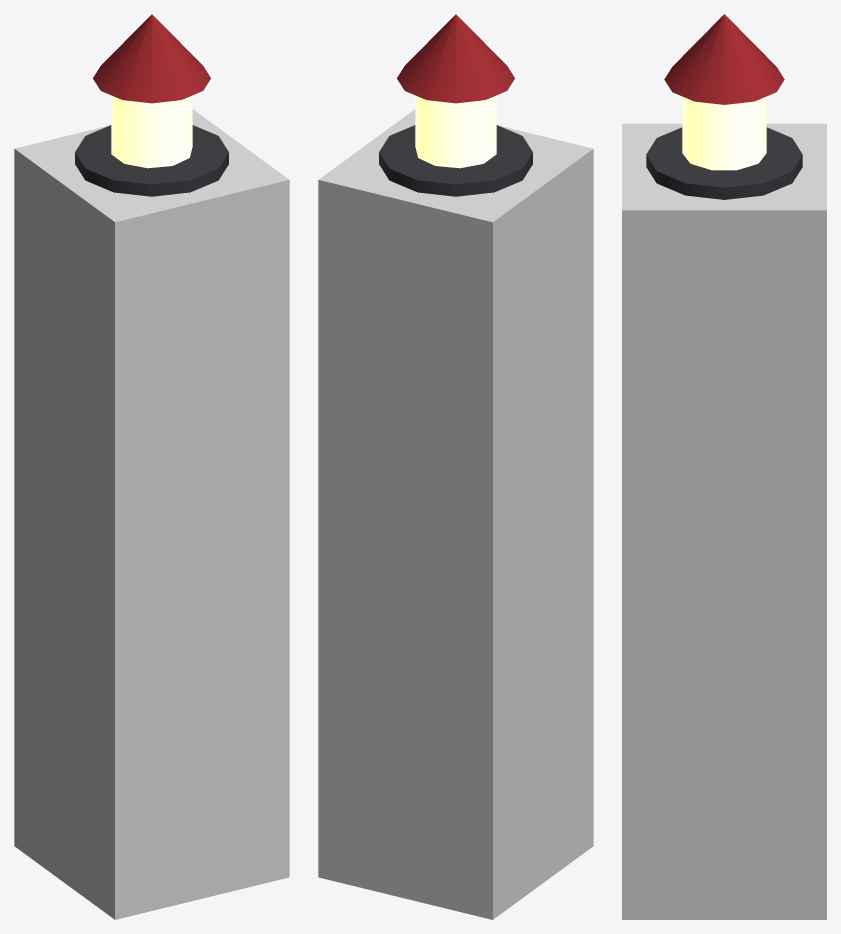
Rendered from theme-port-5.glb.
The picture shows the model from 3 angles, left to right: view 1: azimuth 30°, elevation 25°; view 2: azimuth 150°, elevation 25°; view 3: azimuth 270°, elevation 25°; orthographic projection.
Parts seen in each view (by area): view 1: solid, 03_#a3262c, 02_#3a3a40, 04_#fff0b0_noshadow; view 2: solid, 03_#a3262c, 02_#3a3a40, 04_#fff0b0_noshadow; view 3: solid, 03_#a3262c, 02_#3a3a40, 04_#fff0b0_noshadow.
Boxes of the visible parts, left/top/right/bottom form: solid: left=14, top=109, right=289, bottom=919; 03_#a3262c: left=93, top=14, right=210, bottom=103; 02_#3a3a40: left=75, top=125, right=228, bottom=196; 04_#fff0b0_noshadow: left=111, top=95, right=192, bottom=168; solid: left=318, top=109, right=593, bottom=919; 03_#a3262c: left=397, top=14, right=514, bottom=103; 02_#3a3a40: left=379, top=125, right=532, bottom=196; 04_#fff0b0_noshadow: left=415, top=95, right=496, bottom=168; solid: left=622, top=123, right=826, bottom=919; 03_#a3262c: left=664, top=14, right=784, bottom=104; 02_#3a3a40: left=646, top=127, right=802, bottom=199; 04_#fff0b0_noshadow: left=682, top=96, right=766, bottom=170.
Bounding box in the file's own units: 6.8 × 31.6 × 6.8.
